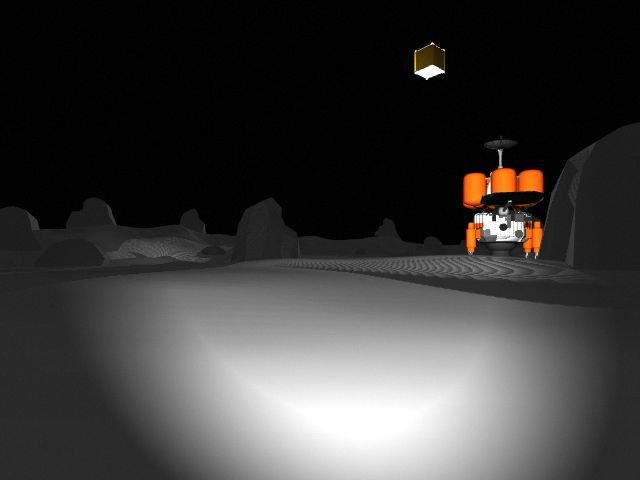cubesat: (409, 39, 450, 86)
